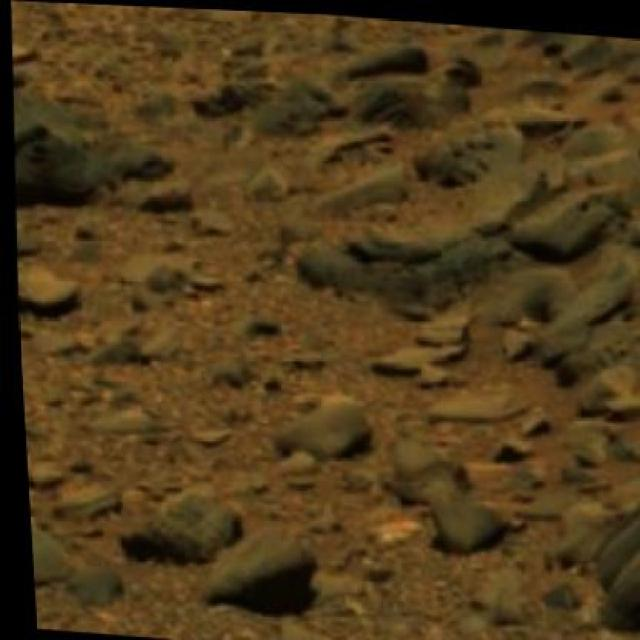rock: (8, 82, 121, 204), (193, 523, 316, 605), (583, 466, 639, 637)
